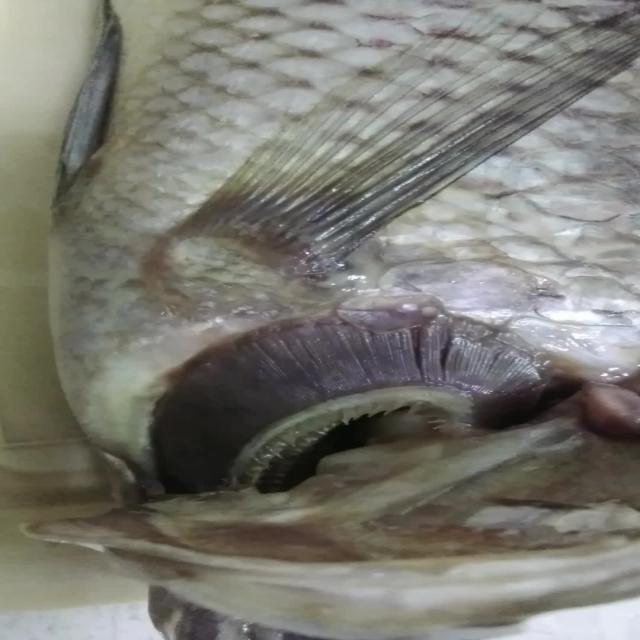Non-Fresh: (142, 304, 561, 494)
